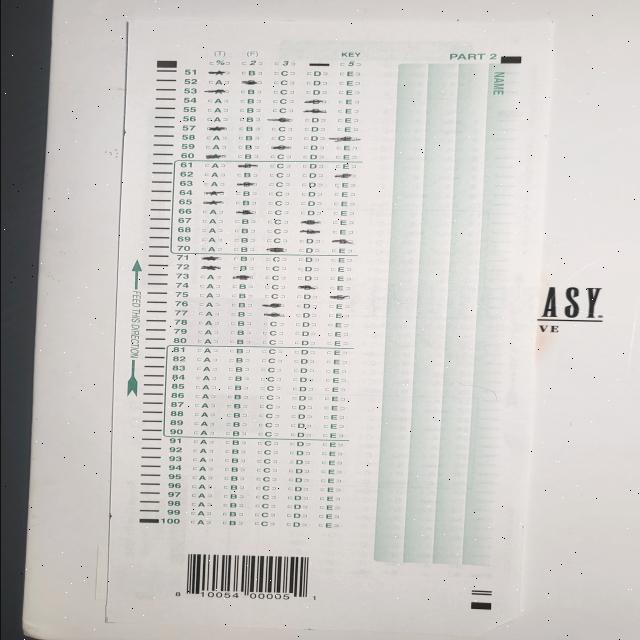scantron_back: (105, 20, 558, 636)
